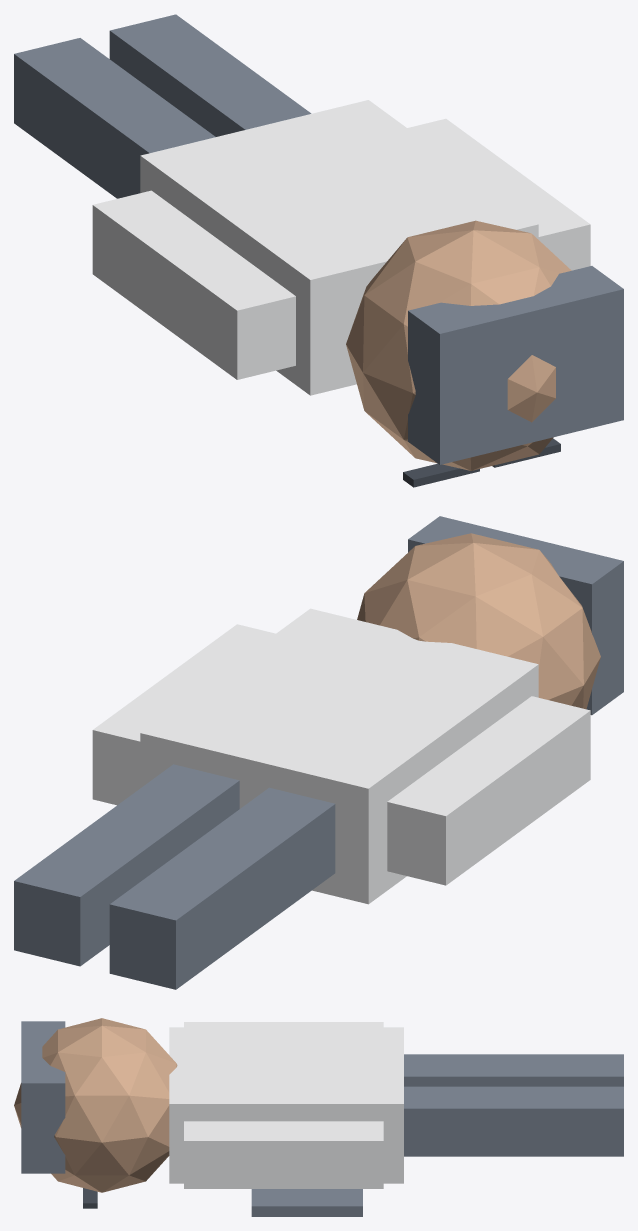
The model's file is researcher_variant_3.glb.
3 renders of one model, top to bottom at view 1: azimuth 30°, elevation 25°; view 2: azimuth 150°, elevation 25°; view 3: azimuth 270°, elevation 25°, orthographic. The views are drawn at different scales.
Parts seen in each view (by area): view 1: torso_2, hair_6, head_5, arm_l_3, leg_l_0, leg_r_1, arm_r_4, glasses_l_7; view 2: torso_2, leg_l_0, head_5, arm_l_3, leg_r_1, arm_r_4, hair_6; view 3: torso_2, head_5, leg_r_1, arm_r_4, leg_l_0, hair_6, tablet_9, arm_l_3, glasses_r_8.
Part boxes in pixels (<box>): torso_2: <box>140,100,538,395</box>; hair_6: <box>408,266,623,464</box>; head_5: <box>346,220,571,470</box>; arm_l_3: <box>92,190,295,379</box>; leg_l_0: <box>14,38,215,198</box>; leg_r_1: <box>109,14,311,136</box>; arm_r_4: <box>407,118,590,270</box>; glasses_l_7: <box>403,463,479,487</box>; torso_2: <box>140,608,538,904</box>; leg_l_0: <box>109,787,335,989</box>; head_5: <box>357,533,600,709</box>; arm_l_3: <box>387,696,590,885</box>; leg_r_1: <box>14,764,239,966</box>; arm_r_4: <box>92,624,275,805</box>; hair_6: <box>408,516,623,715</box>; torso_2: <box>169,1027,403,1183</box>; head_5: <box>14,1018,177,1192</box>; leg_r_1: <box>404,1086,623,1156</box>; arm_r_4: <box>184,1121,383,1188</box>; leg_l_0: <box>404,1054,623,1086</box>; hair_6: <box>21,1021,65,1173</box>; tablet_9: <box>251,1189,362,1216</box>; arm_l_3: <box>184,1022,383,1027</box>; glasses_r_8: <box>83,1188,97,1208</box>.
Bounding box in the file's own units: 0.96 × 0.6 × 2.08.
